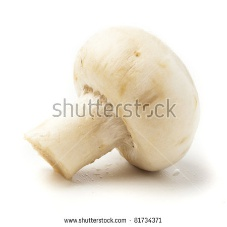mushroom: (24, 23, 202, 183)
